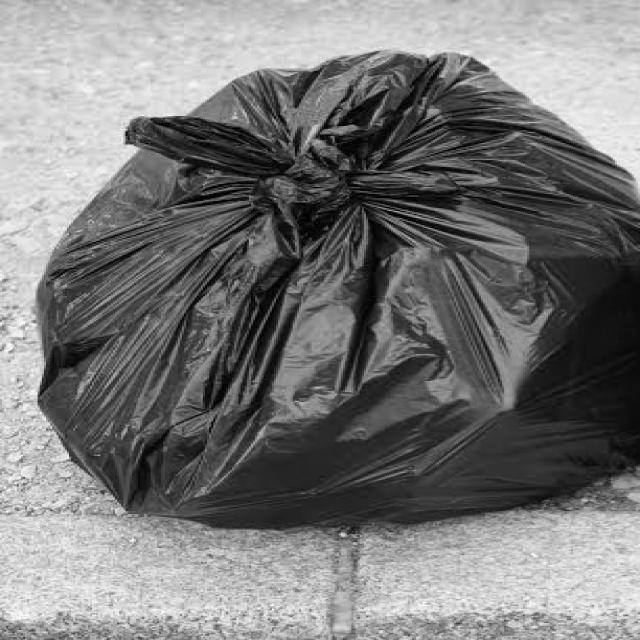plastic bag: (0, 0, 640, 551)
